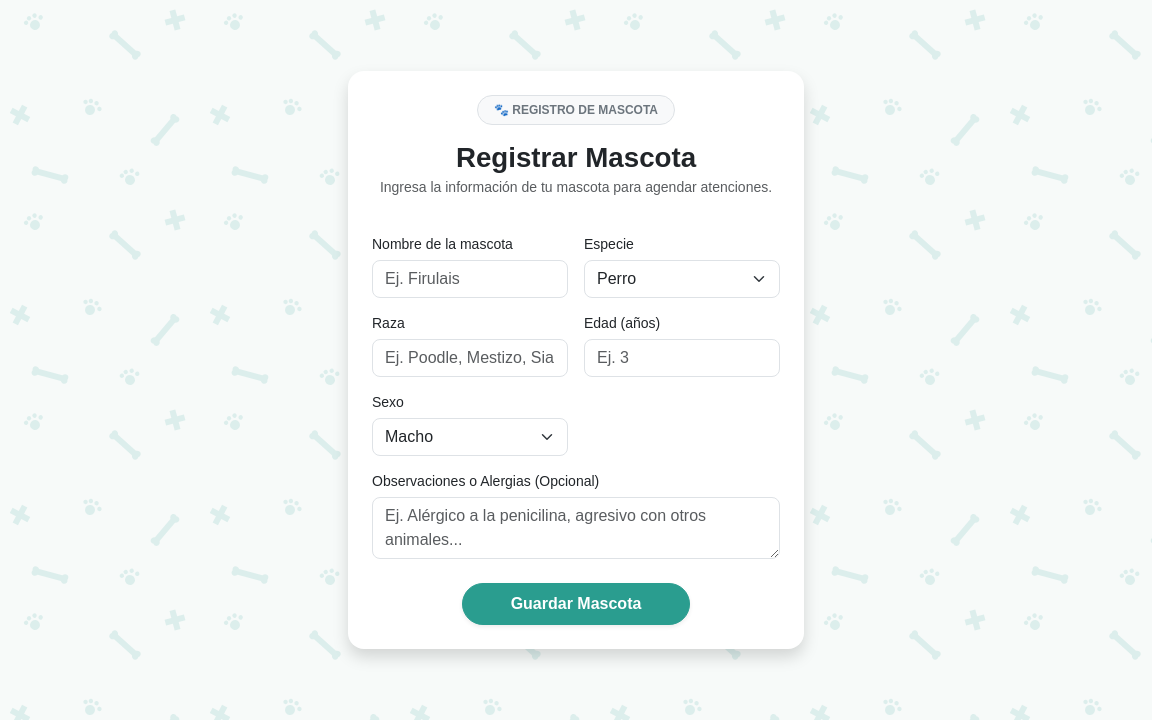
Test: PetForm › no guarda una mascota con datos obligatorios vacíos
Click the button "Guardar Mascota" at (576, 604), box [462,583,690,625]
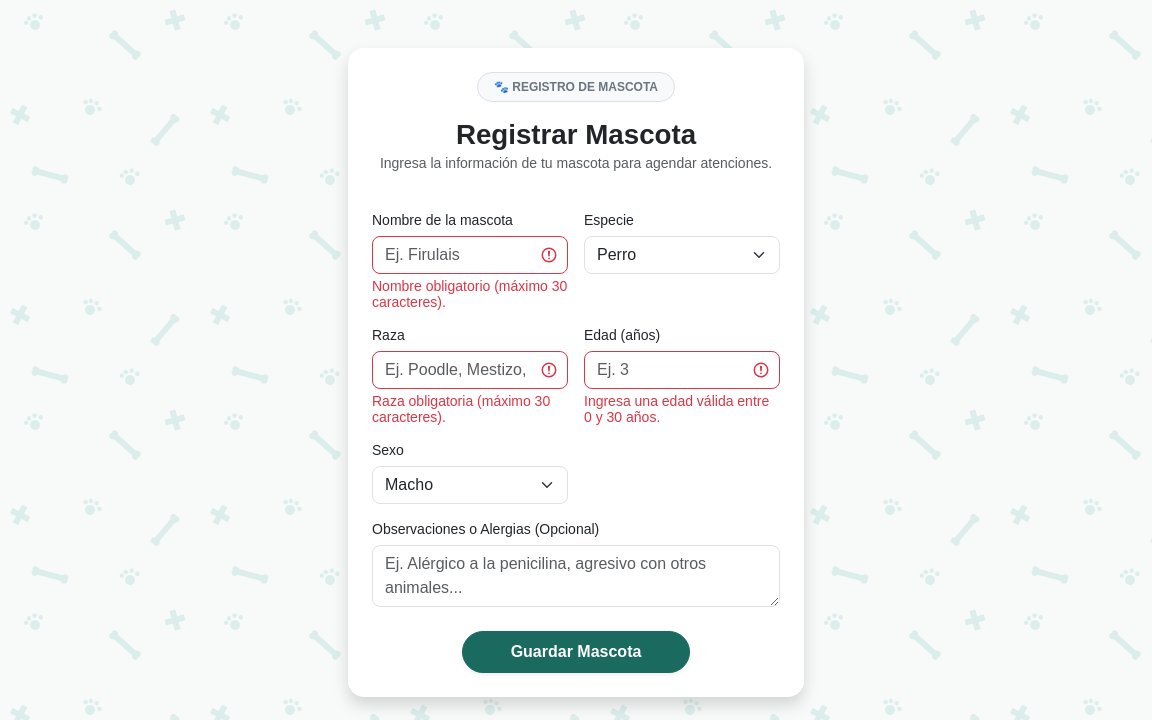
Now the text "Nombre obligatorio (máximo 30 caracteres)." is shown, box [372,278,568,310]
Now the text "Ingresa una edad válida entre 0 y 30 años." is shown, box [584,393,780,425]
